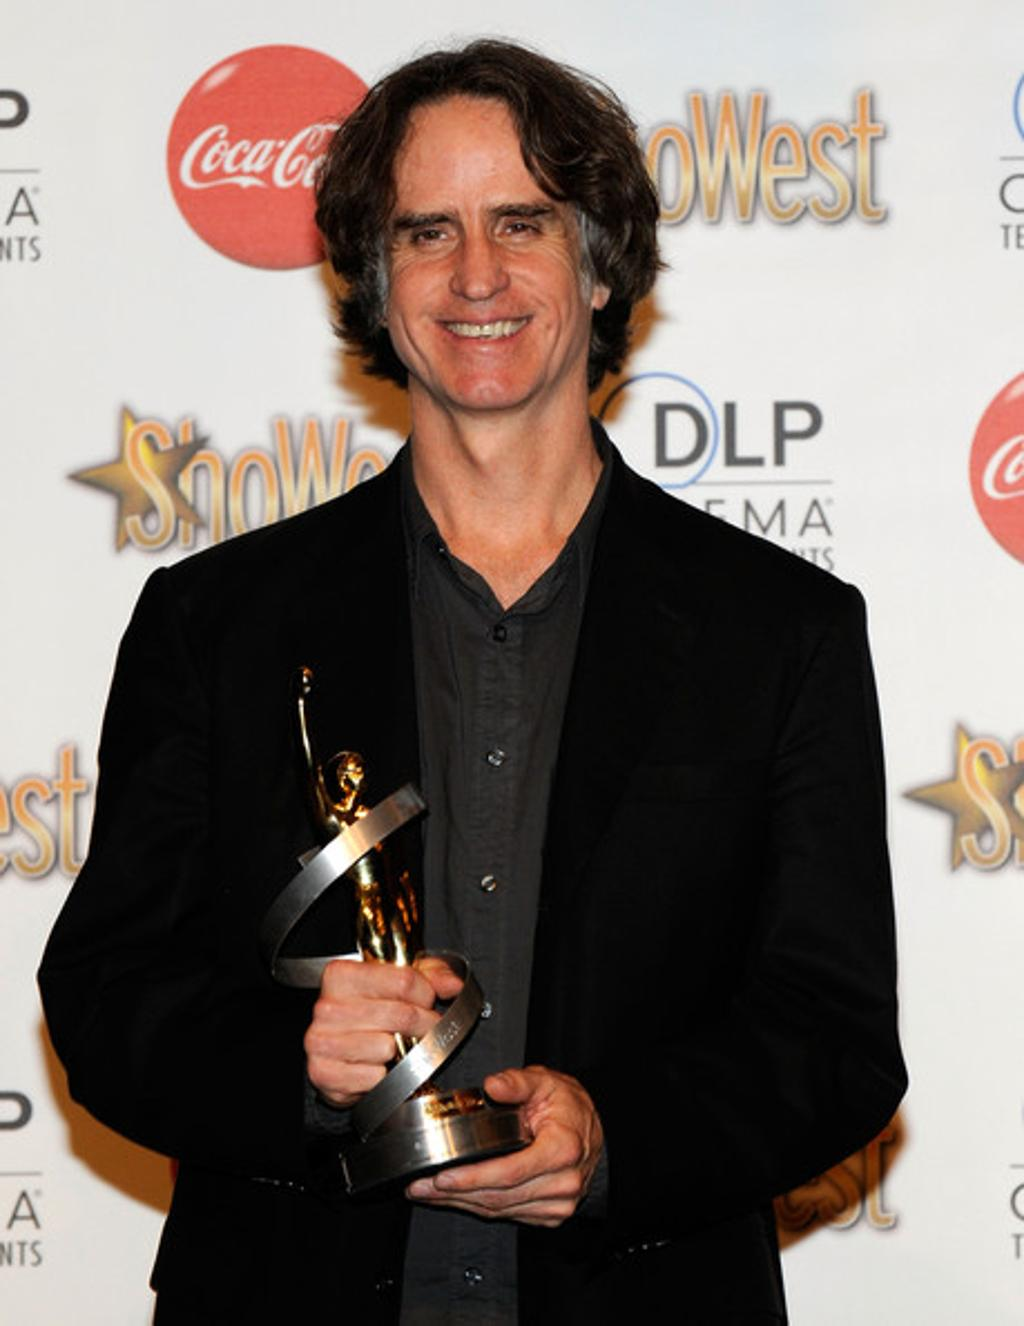face: (375, 85, 587, 413)
